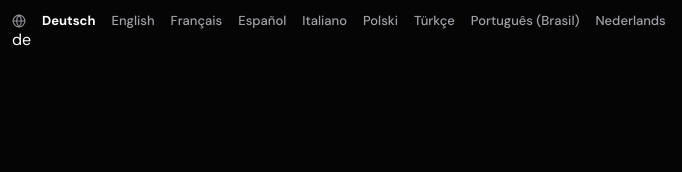
the language links and the dashboard list › the links of the footer and the phone menu switch and mark the current one
Expected: the element named "Sprache" is shown, [12,12,666,29]
Step 1. Click the link with test id "footer-languages-pl" → (380, 20), box [363,12,398,29]
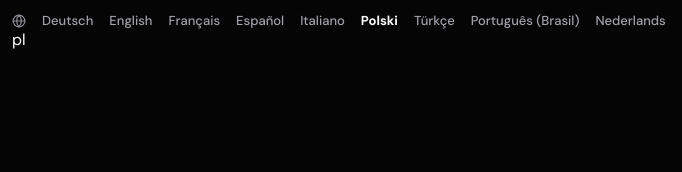
Result: the text with test id "locale" reads "pl" at [12,29,26,50]
